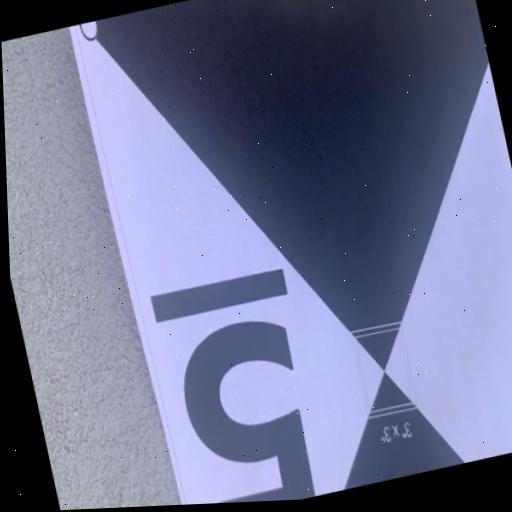target5: (68, 0, 512, 505)
